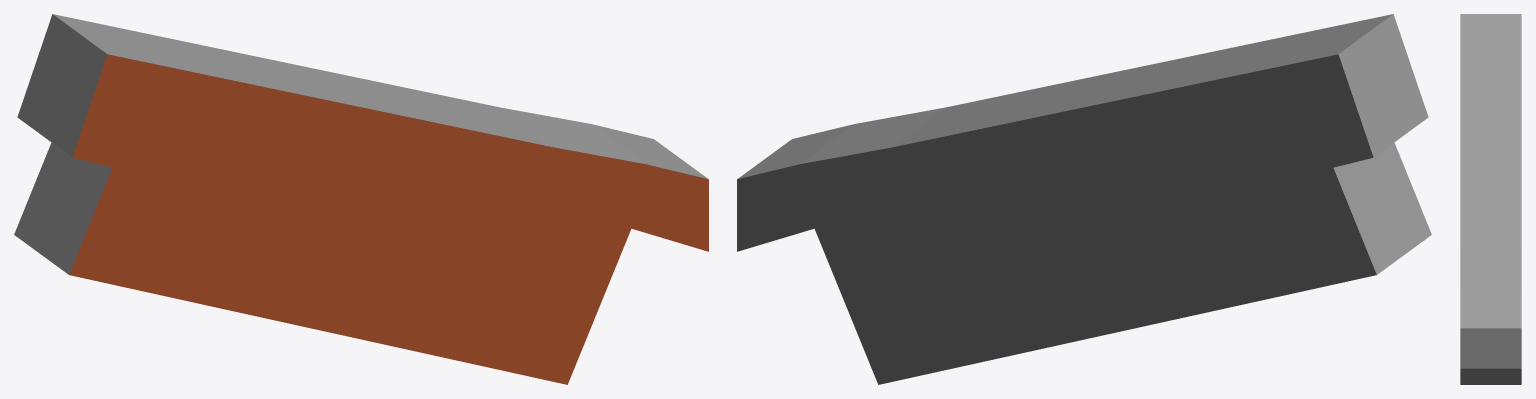
File: construction_0726_assumed_A_Casa_h6m.obj
3 renders of one model, left to right at view 1: azimuth 30°, elevation 25°; view 2: azimuth 150°, elevation 25°; view 3: azimuth 270°, elevation 25°, orthographic. The views are drawn at different scales.
Visible parts, largest first — view 1: construction_0726_assumed_A_Casa; view 2: construction_0726_assumed_A_Casa; view 3: construction_0726_assumed_A_Casa.
Boxes of the visible parts, x1,y1,x2,y2 form: construction_0726_assumed_A_Casa: (14, 14, 708, 384); construction_0726_assumed_A_Casa: (737, 14, 1431, 384); construction_0726_assumed_A_Casa: (1460, 14, 1521, 384).
Size of the model in its own units: 40.27 by 26.64 by 6.
